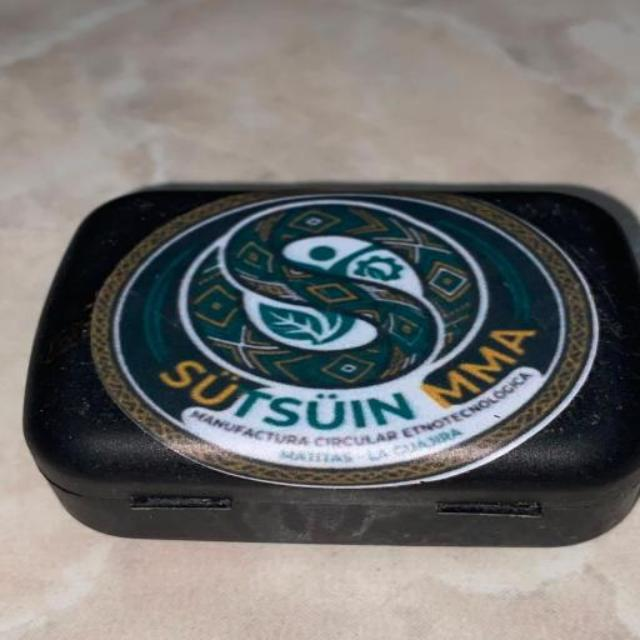HDPE: (10, 129, 635, 586)
